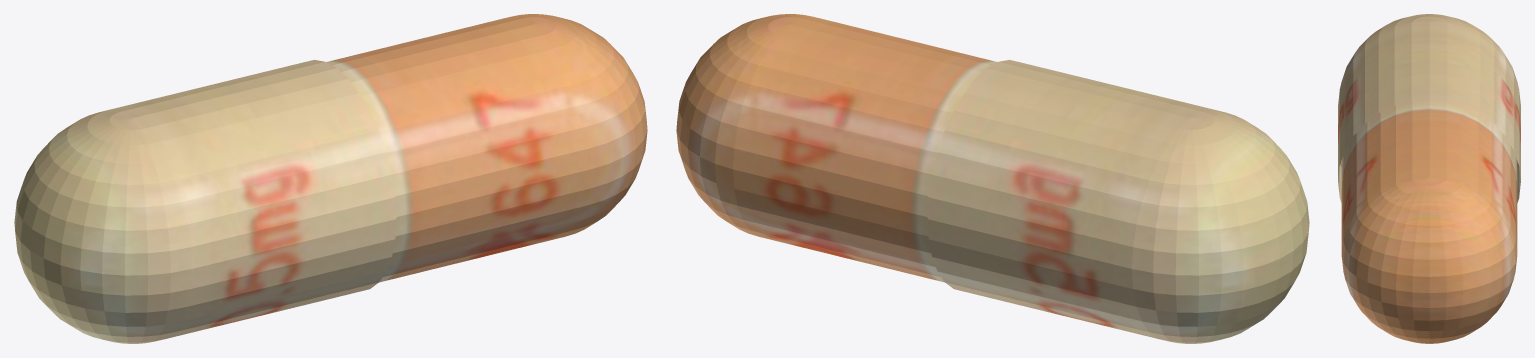
The picture shows the model from 3 angles, left to right: view 1: azimuth 30°, elevation 25°; view 2: azimuth 150°, elevation 25°; view 3: azimuth 270°, elevation 25°; orthographic projection. The views are drawn at different scales.
Parts seen in each view (by area): view 1: 球體; view 2: 球體; view 3: 球體.
Boxes of the visible parts, x1,y1,x2,y2 form: 球體: (14,14,647,343); 球體: (676,14,1309,343); 球體: (1338,14,1520,343).
Size of the model in its own units: 2.93 by 1 by 1.
1 material, 1 textured.
